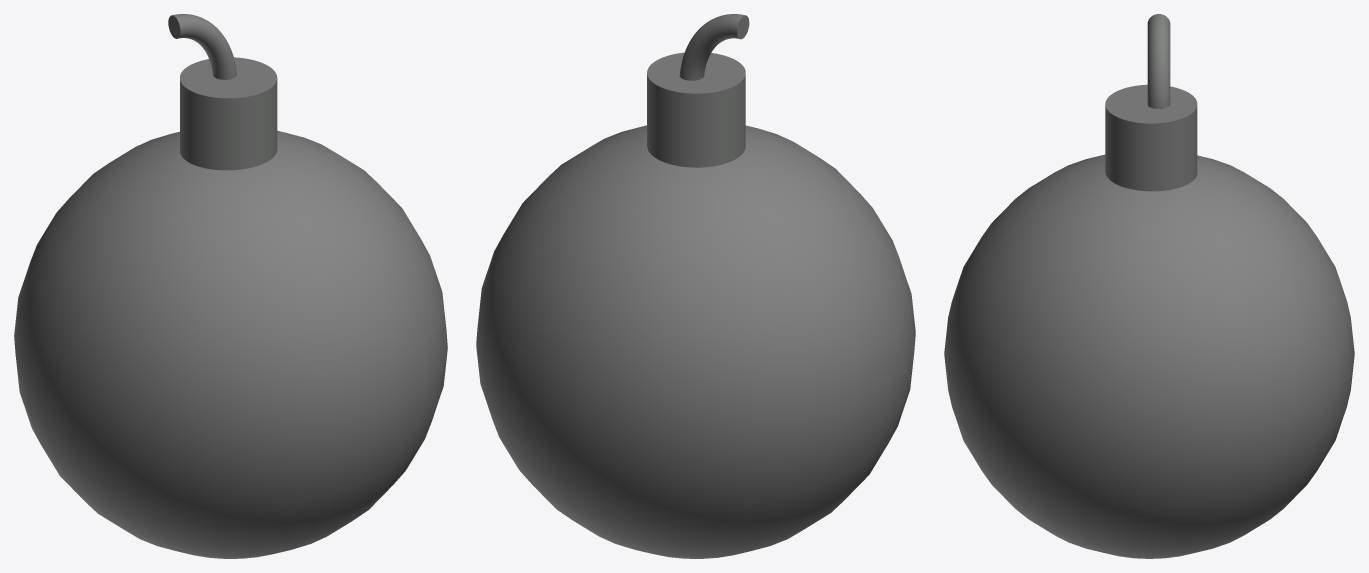
Rendered from Bomb.fbx.
3 views of the same model, side by side, from view 1: azimuth 30°, elevation 25°; view 2: azimuth 150°, elevation 25°; view 3: azimuth 270°, elevation 25° (orthographic). The views are drawn at different scales.
Parts seen in each view (by area): view 1: node_id4, root (×2); view 2: node_id4, root (×2); view 3: node_id4, root (×2).
Part boxes in pixels (x1,y1,x2,y2): node_id4: (14,130,447,558); root (×2): (168,14,277,170); node_id4: (476,125,915,558); root (×2): (647,14,749,167); node_id4: (944,154,1354,558); root (×2): (1105,14,1197,191).
Size of the model in its own units: 0.512 by 0.6909 by 0.512.
3 materials, 2 textured.
